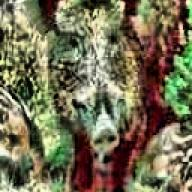boar: (25, 0, 192, 192), (0, 82, 45, 192)
